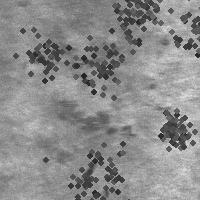rolled-in_scale: (58, 22, 142, 106), (3, 11, 81, 89), (52, 134, 138, 200), (54, 83, 144, 139), (96, 0, 176, 50), (155, 0, 200, 76), (146, 101, 200, 155), (59, 39, 122, 71)
